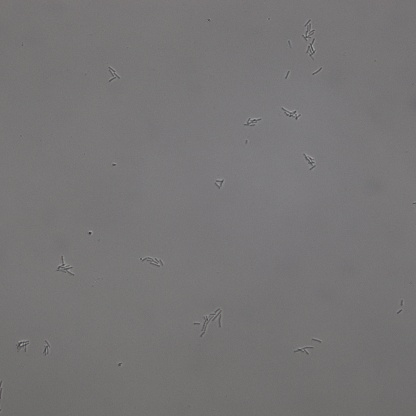R(colony): (193, 307, 223, 338), (54, 256, 74, 276), (301, 19, 315, 41), (106, 65, 121, 84), (139, 256, 164, 267), (306, 38, 318, 60), (282, 108, 301, 120), (303, 154, 316, 170), (15, 339, 29, 351), (243, 117, 261, 126), (295, 347, 314, 355), (41, 341, 51, 355), (214, 180, 224, 189)
